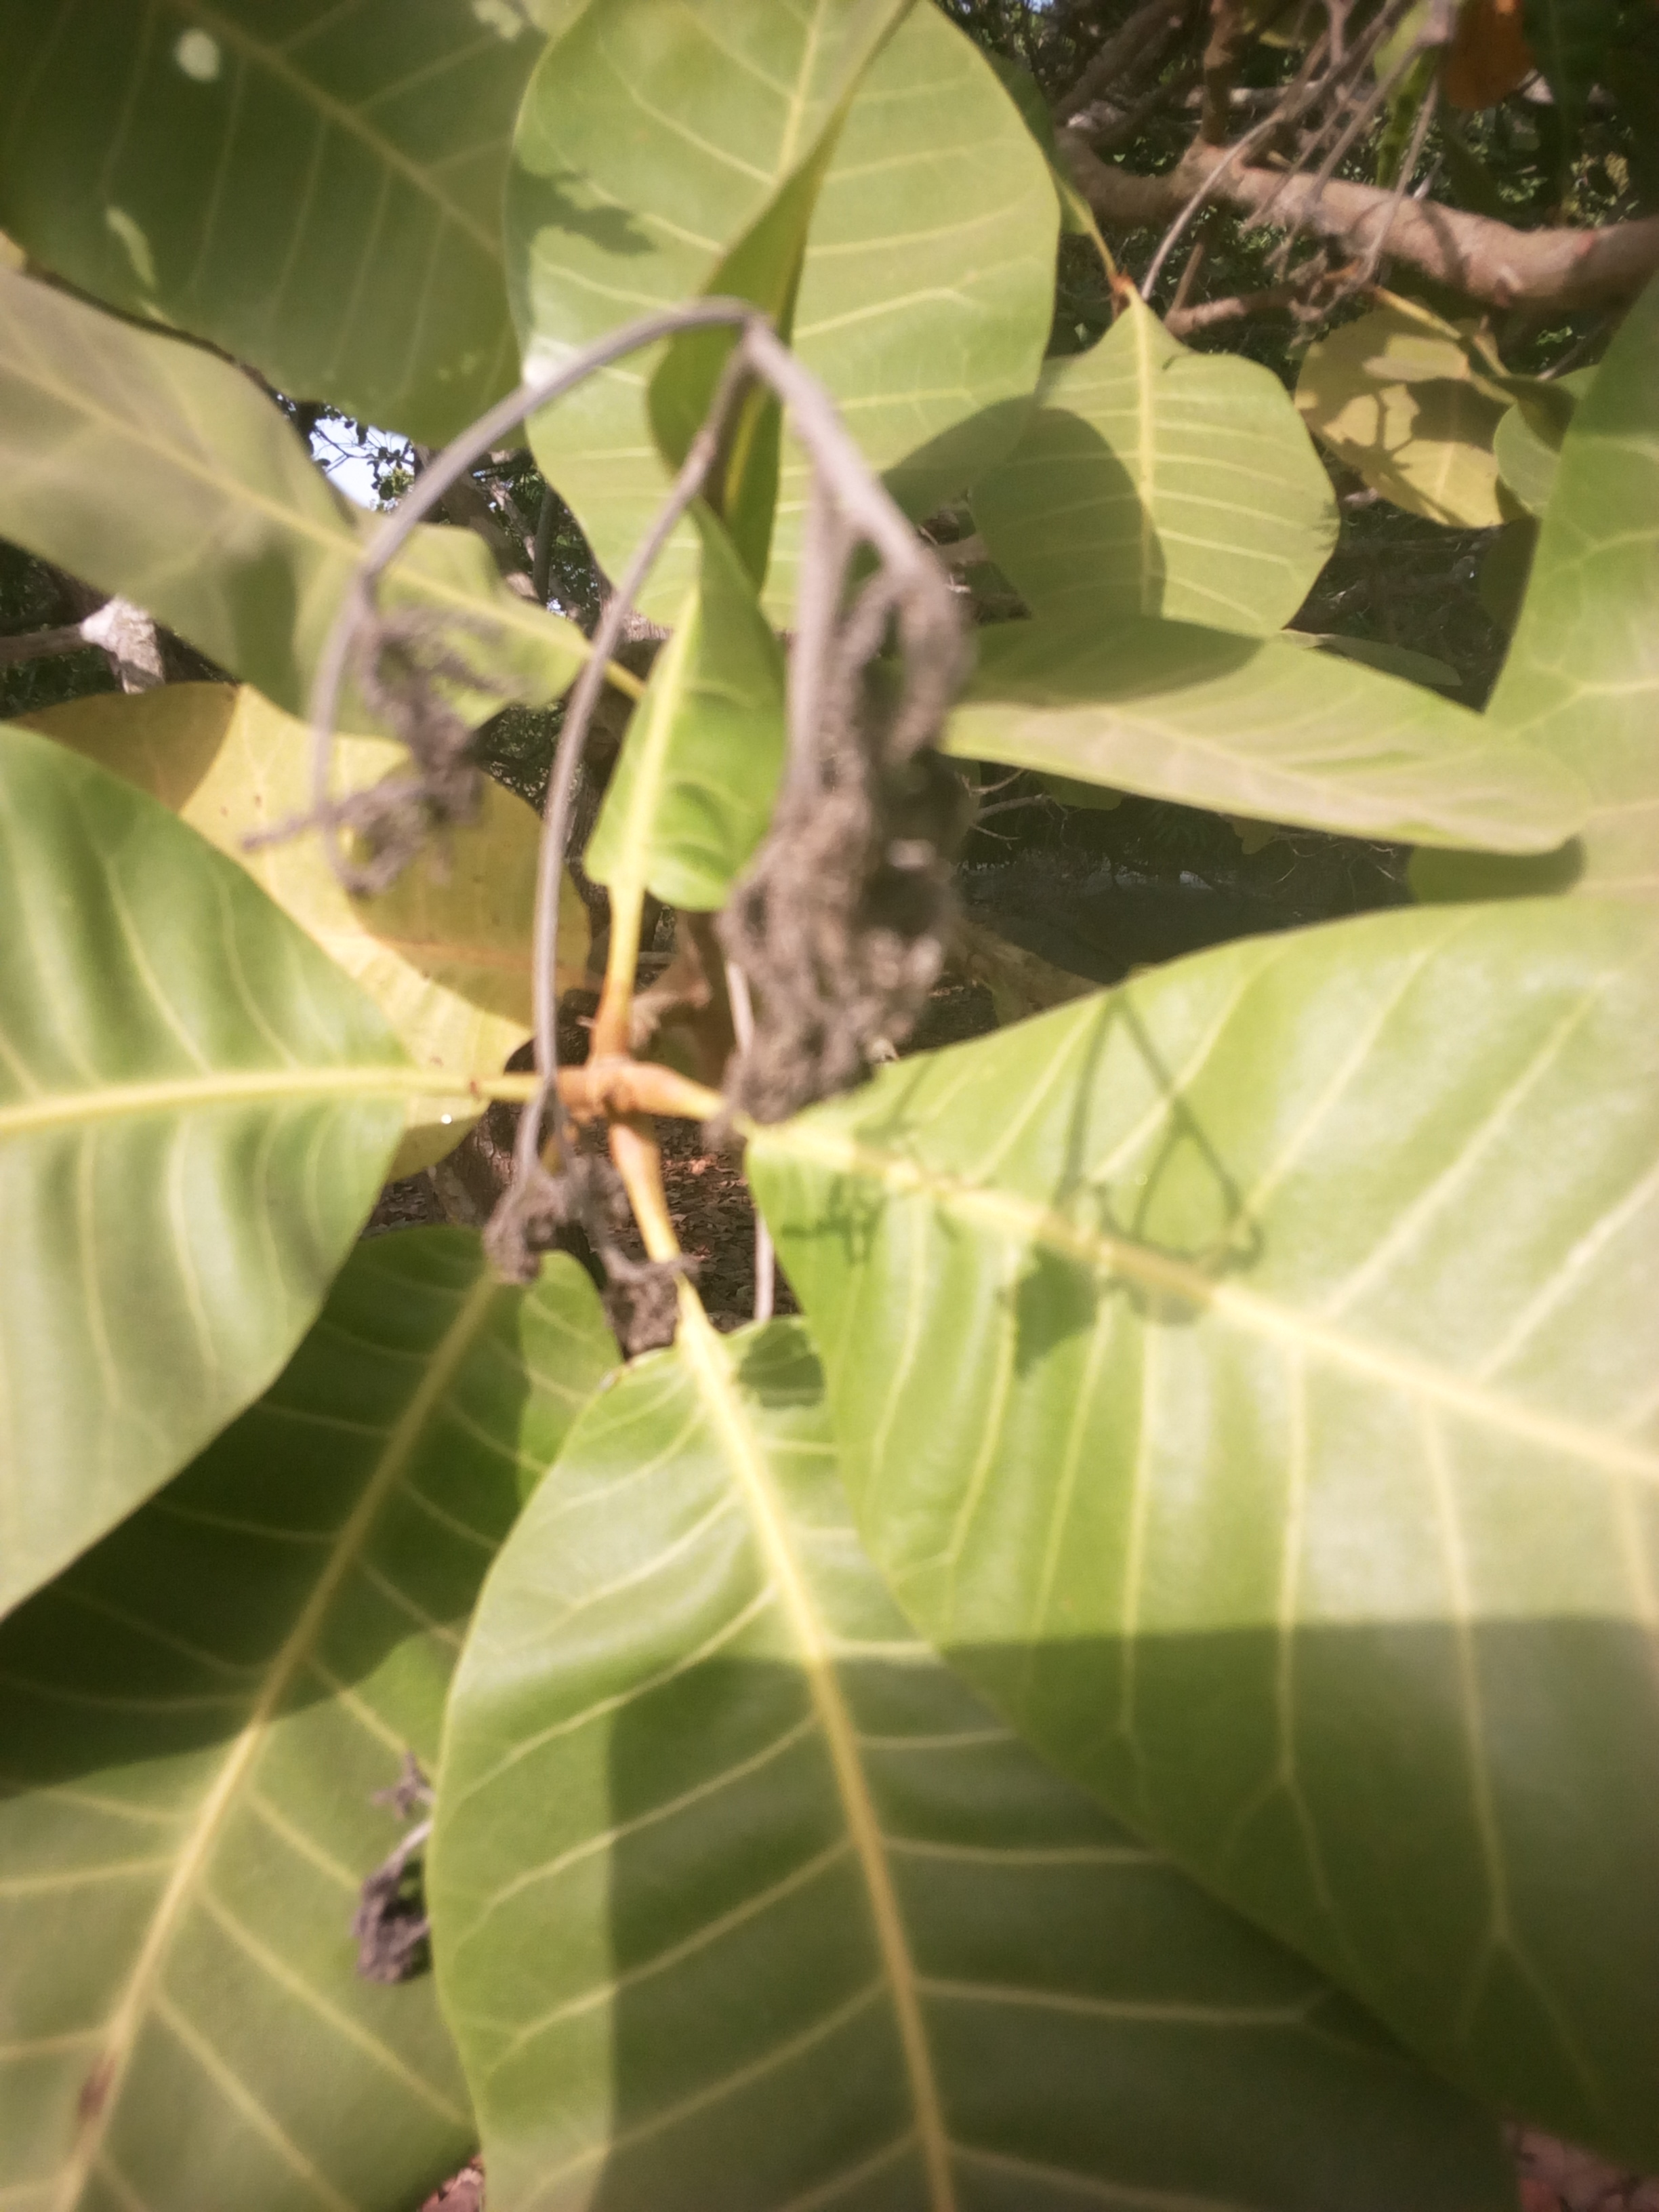Dessèchement des bourgeons: (758, 449, 945, 988), (317, 557, 477, 880), (488, 1092, 690, 1325)
